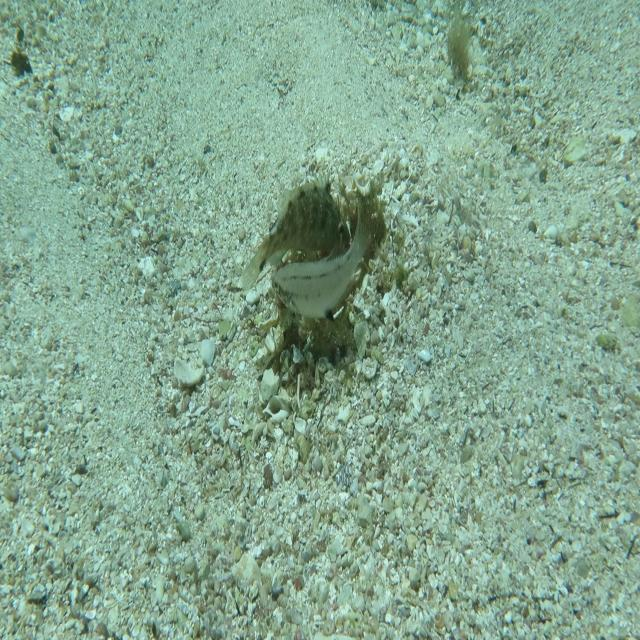NIP_CORE: (241, 166, 351, 294)
female: (270, 191, 379, 325)
nest: (259, 158, 397, 379)
